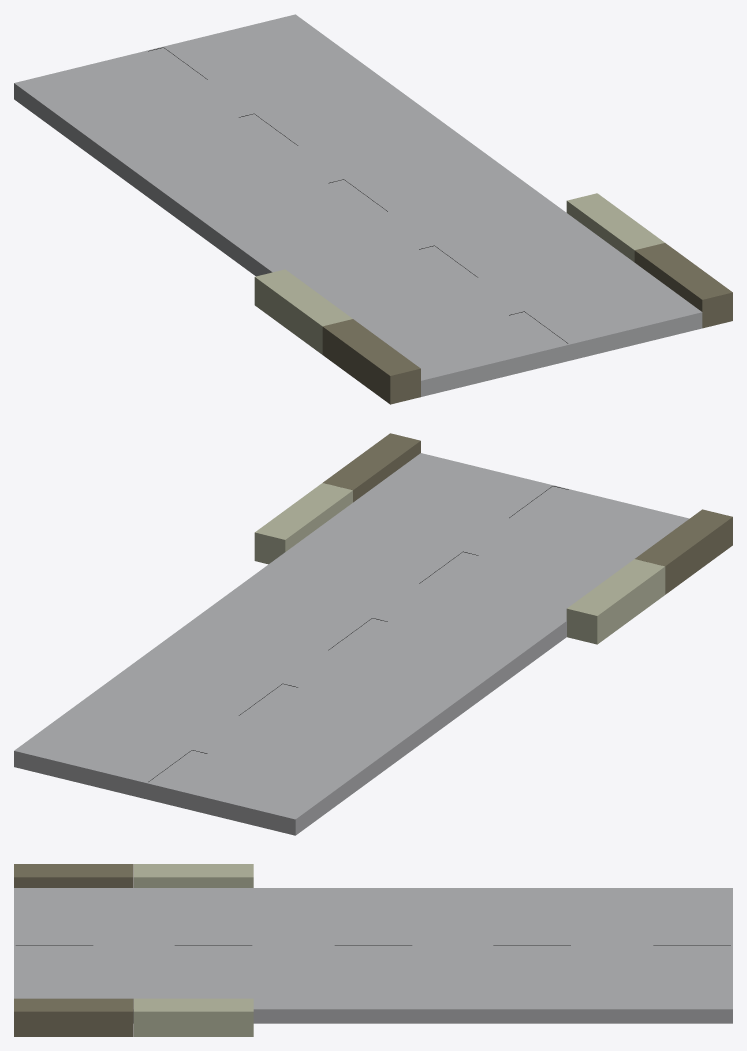
Rendered from RoadV2.fbx.
The picture shows the model from 3 angles, top to bottom: view 1: azimuth 30°, elevation 25°; view 2: azimuth 150°, elevation 25°; view 3: azimuth 270°, elevation 25°; orthographic projection. The views are drawn at different scales.
Parts seen in each view (by area): view 1: Road, Road.sides.darker, Road.sides.lighter; view 2: Road, Road.sides.lighter, Road.sides.darker; view 3: Road, Road.sides.lighter, Road.sides.darker, Road.lines.
Boxes of the visible parts, x1,y1,x2,y2 form: Road: (14, 14, 702, 396); Road.sides.darker: (322, 243, 732, 404); Road.sides.lighter: (254, 193, 664, 354); Road: (14, 453, 689, 835); Road.sides.lighter: (254, 483, 665, 644); Road.sides.darker: (323, 433, 732, 594); Road: (14, 888, 732, 1023); Road.sides.lighter: (134, 864, 253, 1036); Road.sides.darker: (14, 864, 133, 1036); Road.lines: (16, 945, 730, 945).
Bounding box in the file's own units: 438 × 34.85 × 900.
